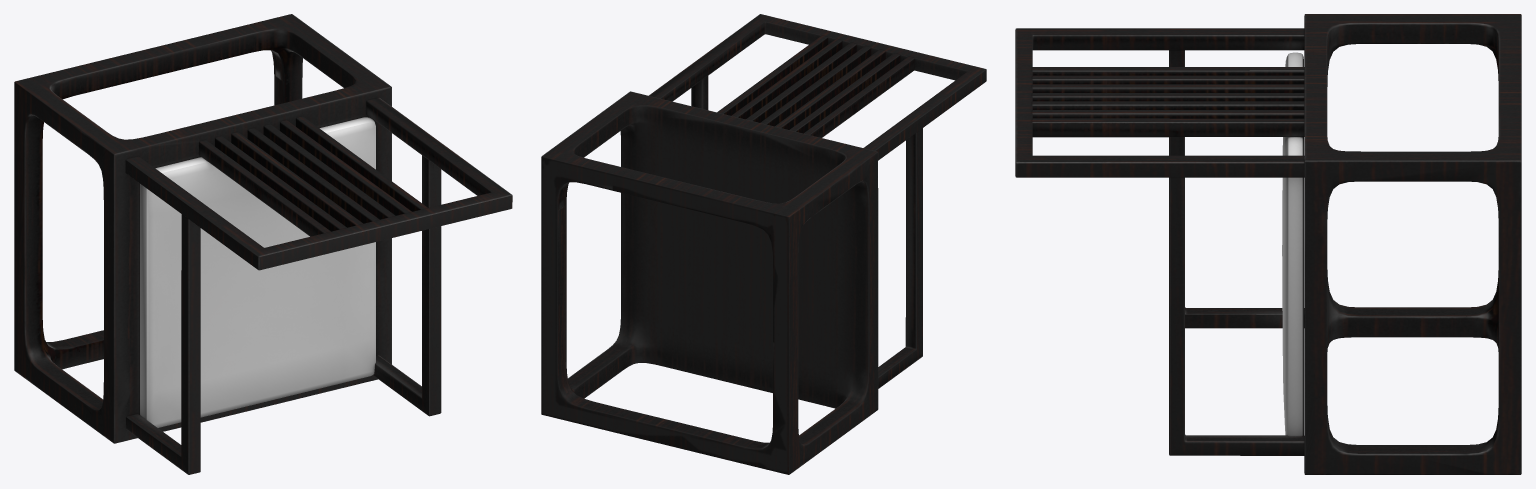
Rendered from raw_model.glb.
3 renders of one model, left to right at view 1: azimuth 30°, elevation 25°; view 2: azimuth 150°, elevation 25°; view 3: azimuth 270°, elevation 25°, orthographic. The views are drawn at different scales.
Parts seen in each view (by area): view 1: raw_model.014; view 2: raw_model.014; view 3: raw_model.014.
Boxes of the visible parts, box(x1,y1,x2,y2) form: raw_model.014: box(14, 14, 512, 474); raw_model.014: box(541, 14, 986, 474); raw_model.014: box(1015, 14, 1521, 474).
Size of the model in its own units: 0.6074 by 0.6043 by 0.8821.
1 material, 1 textured.
